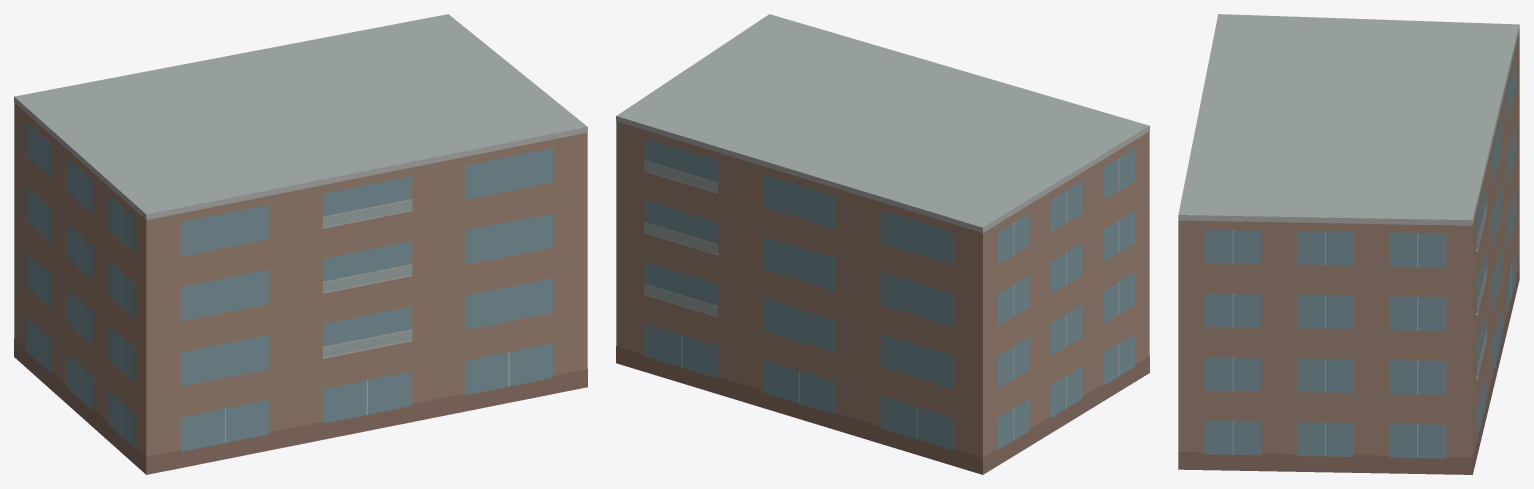
File: survey-upis-32500575.glb
3 views of the same model, side by side, from view 1: azimuth 30°, elevation 25°; view 2: azimuth 150°, elevation 25°; view 3: azimuth 270°, elevation 25° (orthographic). The views are drawn at different scales.
Visible parts, largest first — view 1: survey-upis-32500575.tmp; view 2: survey-upis-32500575.tmp; view 3: survey-upis-32500575.tmp.
Part boxes in pixels (box(x1,y1,x2,y2)): survey-upis-32500575.tmp: box(14, 14, 587, 474); survey-upis-32500575.tmp: box(616, 14, 1149, 474); survey-upis-32500575.tmp: box(1178, 14, 1519, 474).
Bounding box in the file's own units: 19.55 × 11.25 × 13.68.
